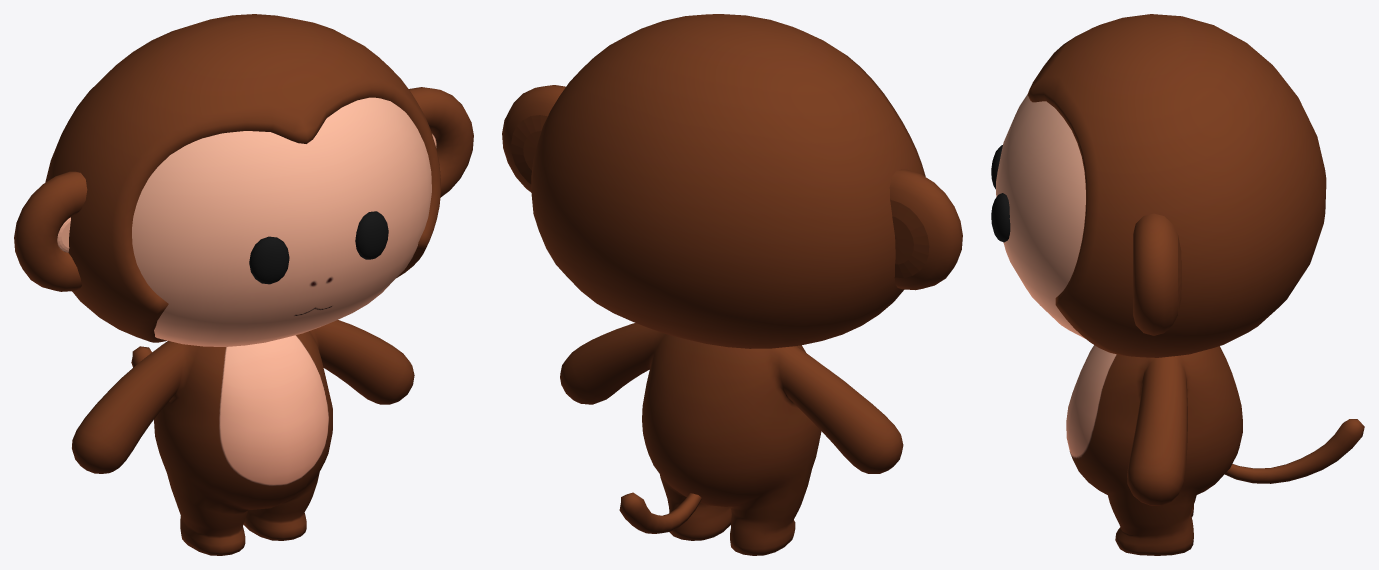
File: monkey.gltf
The picture shows the model from 3 angles, left to right: view 1: azimuth 30°, elevation 25°; view 2: azimuth 150°, elevation 25°; view 3: azimuth 270°, elevation 25°; orthographic projection.
Parts seen in each view (by area): view 1: Monkey_Monkey_0; view 2: Monkey_Monkey_0; view 3: Monkey_Monkey_0.
Part boxes in pixels (<box>): Monkey_Monkey_0: <box>14,14,473,555</box>; Monkey_Monkey_0: <box>502,14,962,555</box>; Monkey_Monkey_0: <box>991,14,1364,555</box>.
Size of the model in its own units: 100 by 106 by 72.56.
Materials: 1 (1 with a texture image).
